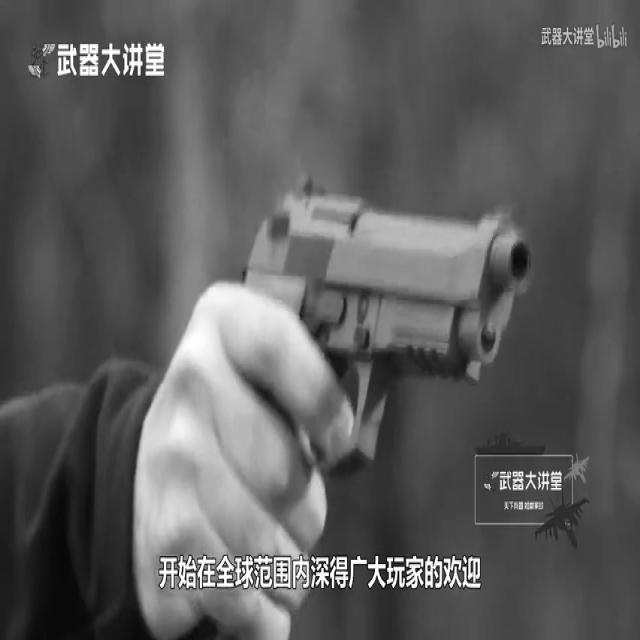Hand-Gun: (210, 106, 553, 604)
